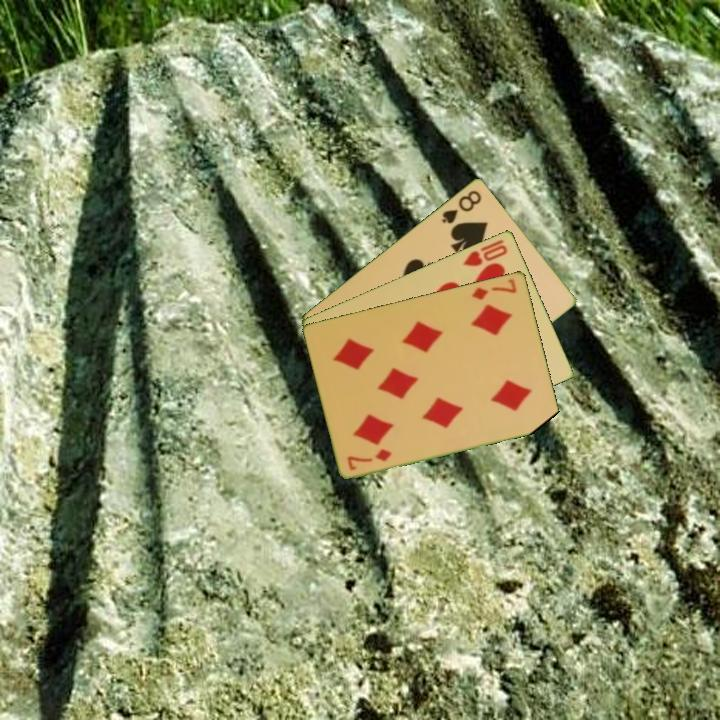10h: (459, 235, 511, 269)
7d: (344, 444, 395, 473), (468, 275, 520, 303)
8s: (438, 186, 484, 226)
